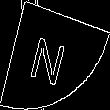N_N: (33, 25, 77, 85)
